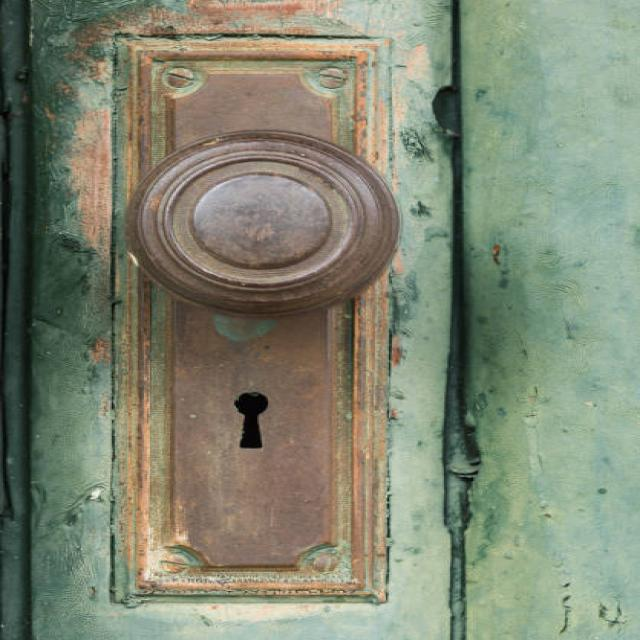door-knob: (128, 131, 399, 315)
